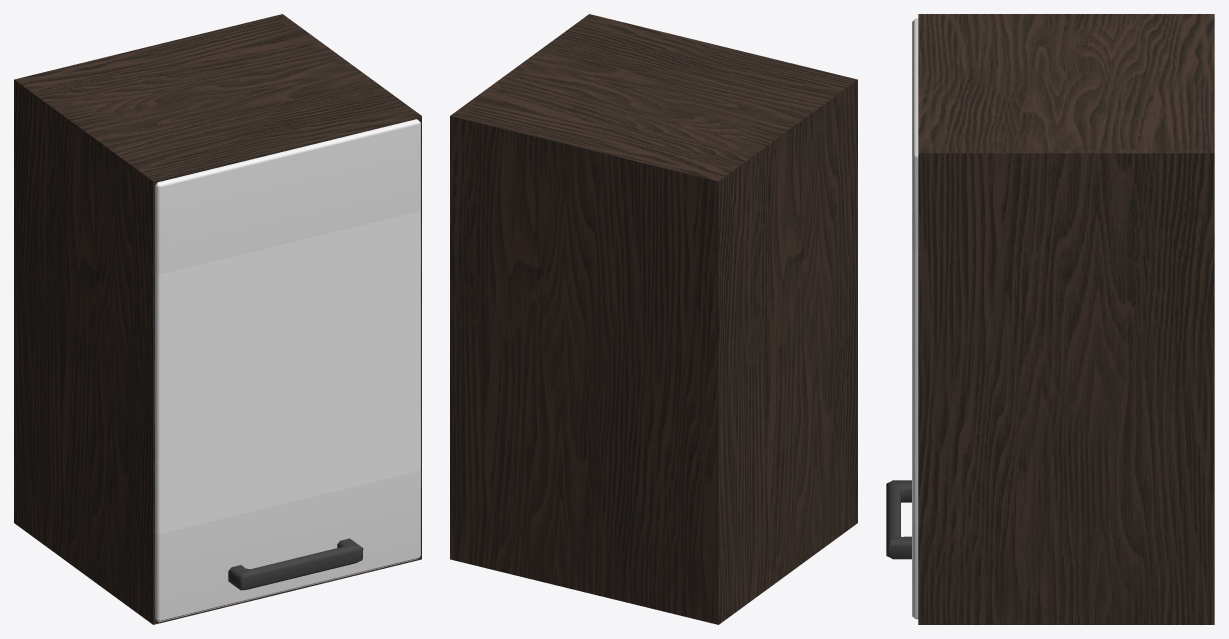
The model's file is kitchen_057.fbx.
3 renders of one model, left to right at view 1: azimuth 30°, elevation 25°; view 2: azimuth 150°, elevation 25°; view 3: azimuth 270°, elevation 25°, orthographic. The views are drawn at different scales.
Visible parts, largest first — view 1: kitchen_057; view 2: kitchen_057; view 3: kitchen_057.
Boxes of the visible parts, bbox=[...] form: kitchen_057: bbox=[14, 14, 421, 624]; kitchen_057: bbox=[450, 14, 857, 624]; kitchen_057: bbox=[886, 14, 1214, 624].
Bounding box in the file's own units: 66.43 × 66.07 × 105.
